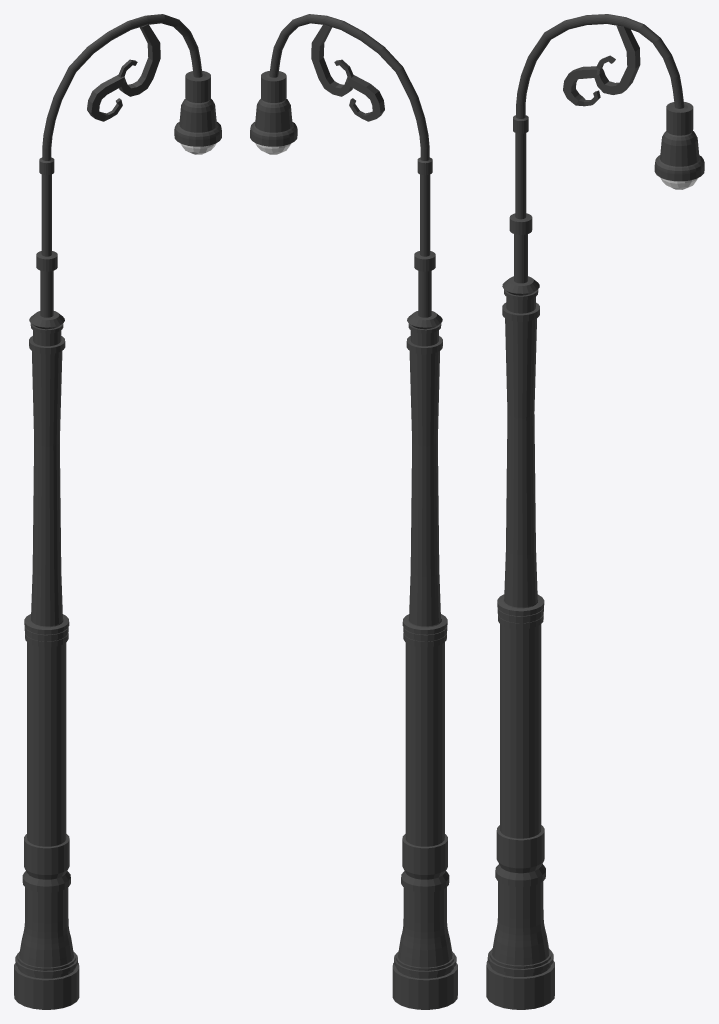
Rendered from lampara.obj.
3 views of the same model, side by side, from view 1: azimuth 30°, elevation 25°; view 2: azimuth 150°, elevation 25°; view 3: azimuth 330°, elevation 25° (orthographic). The views are drawn at different scales.
Parts seen in each view (by area): view 1: Faro; view 2: Faro; view 3: Faro.
Part boxes in pixels (bbox=[...]): Faro: bbox=[14, 14, 221, 1009]; Faro: bbox=[250, 14, 457, 1009]; Faro: bbox=[486, 14, 704, 1009].
Size of the model in its own units: 1.71 by 7.8 by 0.487.
2 materials, 2 textured.
